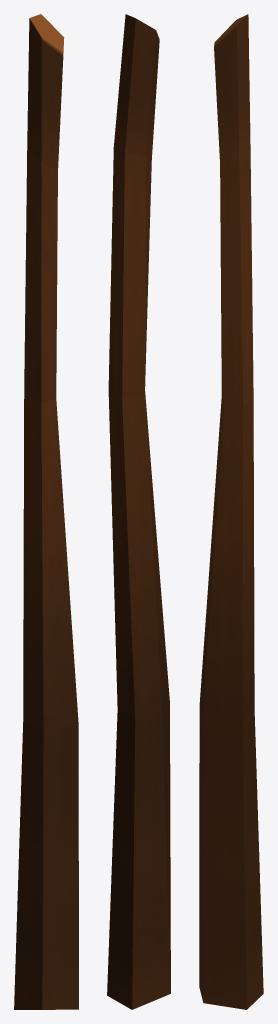
File: wood.FBX
The picture shows the model from 3 angles, left to right: view 1: azimuth 90°, elevation 25°; view 2: azimuth 150°, elevation 25°; view 3: azimuth 270°, elevation 25°; orthographic projection.
Visible parts, largest first — view 1: wood; view 2: wood; view 3: wood.
Boxes of the visible parts, x1,y1,x2,y2 form: wood: (14,14,78,1009); wood: (107,14,170,1009); wood: (199,14,263,1009).
Bounding box in the file's own units: 5.58 × 90.02 × 5.35.
1 material, 1 textured.
